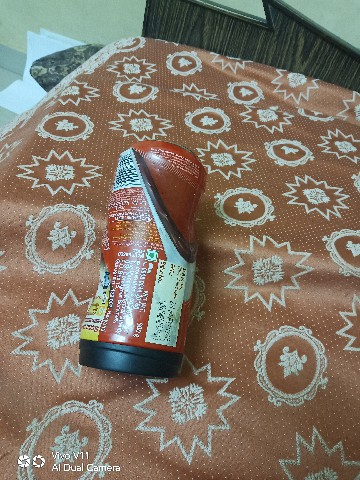boost big: (69, 121, 217, 407)
